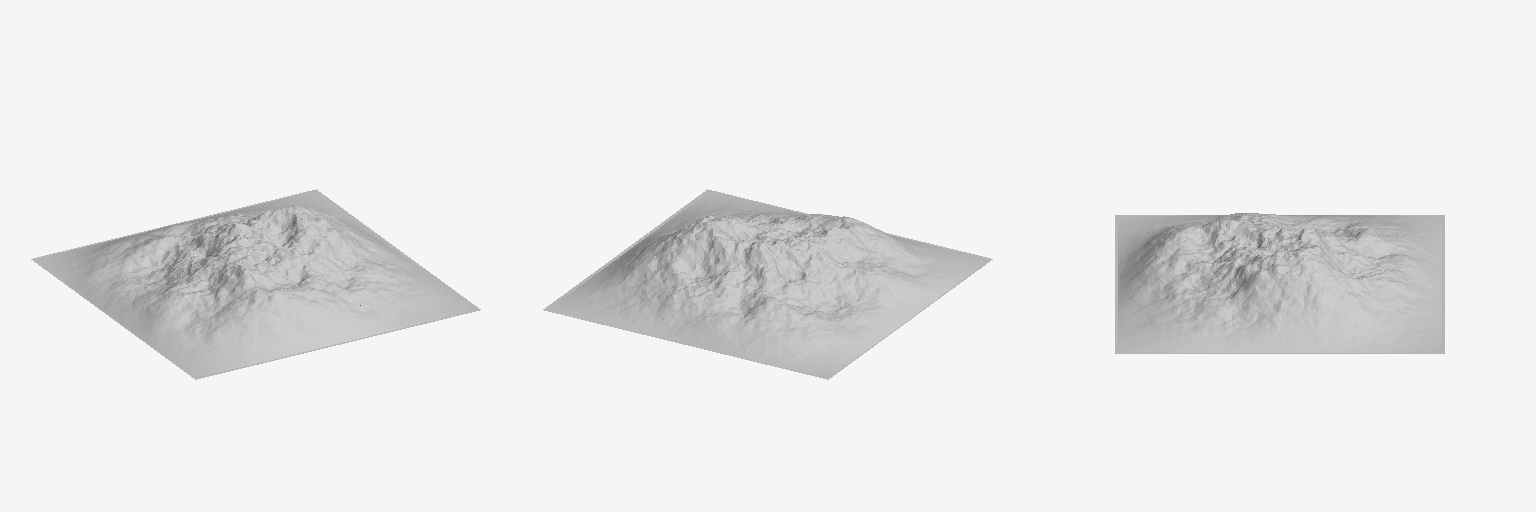
File: MunteDoi6k.obj
The picture shows the model from 3 angles: view 1: azimuth 30°, elevation 25°; view 2: azimuth 150°, elevation 25°; view 3: azimuth 270°, elevation 25°; orthographic projection.
Parts seen in each view (by area): view 1: MountainTerrain; view 2: MountainTerrain; view 3: MountainTerrain.
Boxes of the visible parts, x1=… form: MountainTerrain: x1=31, y1=189, x2=480, y2=379; MountainTerrain: x1=543, y1=189, x2=992, y2=379; MountainTerrain: x1=1115, y1=213, x2=1444, y2=353.
Size of the model in its own units: 200 by 38.23 by 200.